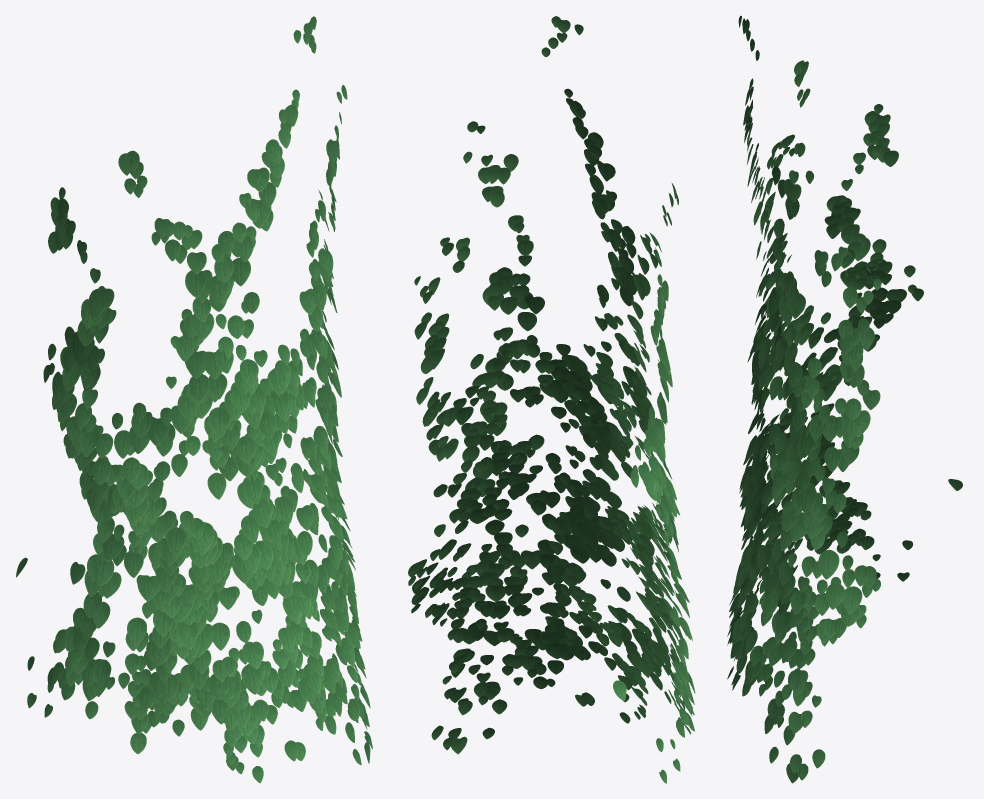
File: ivy_corner.fbx
3 renders of one model, left to right at view 1: azimuth 30°, elevation 25°; view 2: azimuth 150°, elevation 25°; view 3: azimuth 270°, elevation 25°, orthographic. The views are drawn at different scales.
Parts seen in each view (by area): view 1: iveLeaf_2.103; view 2: iveLeaf_2.103; view 3: iveLeaf_2.103.
Boxes of the visible parts, <box> form: iveLeaf_2.103: <box>16,16,372,783</box>; iveLeaf_2.103: <box>408,16,695,783</box>; iveLeaf_2.103: <box>727,16,962,783</box>.
Size of the model in its own units: 588 by 1486 by 450.
